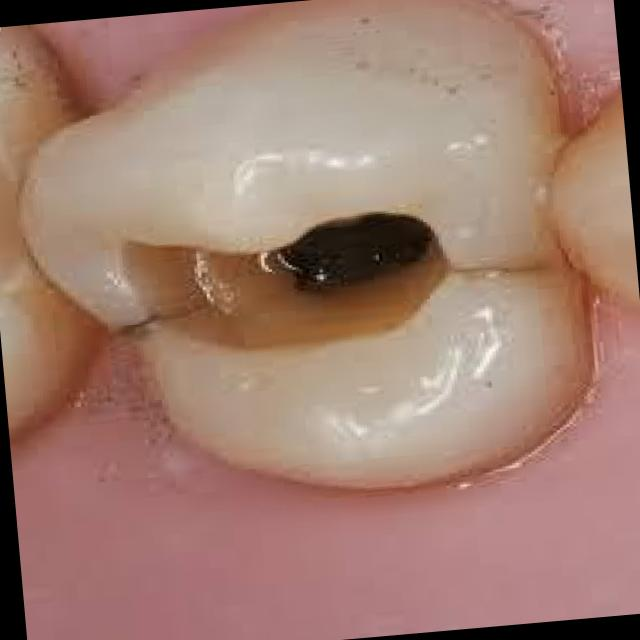Caries: (273, 212, 431, 293)
Cavity: (123, 209, 454, 351)
Tooth: (11, 0, 595, 490)
